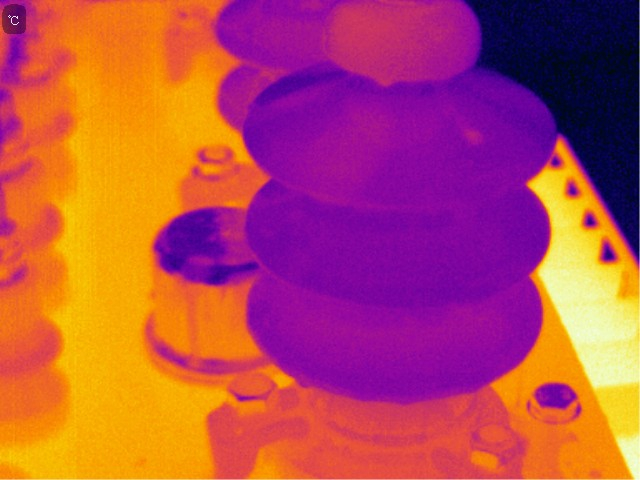Oil: (322, 1, 478, 87), (329, 109, 406, 171), (456, 114, 488, 148)
